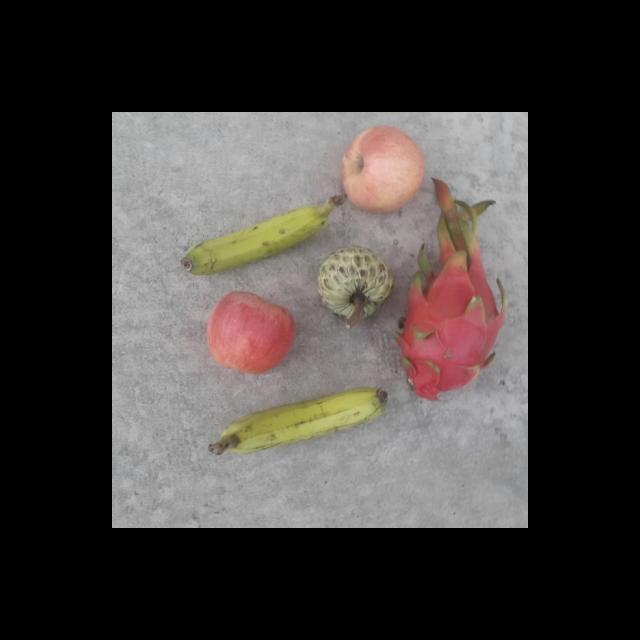Sakya fruit: (318, 242, 394, 320)
apple: (338, 125, 426, 215), (206, 288, 296, 375)
banana: (180, 192, 346, 276), (210, 386, 390, 456)
pitaya: (391, 239, 508, 403)
